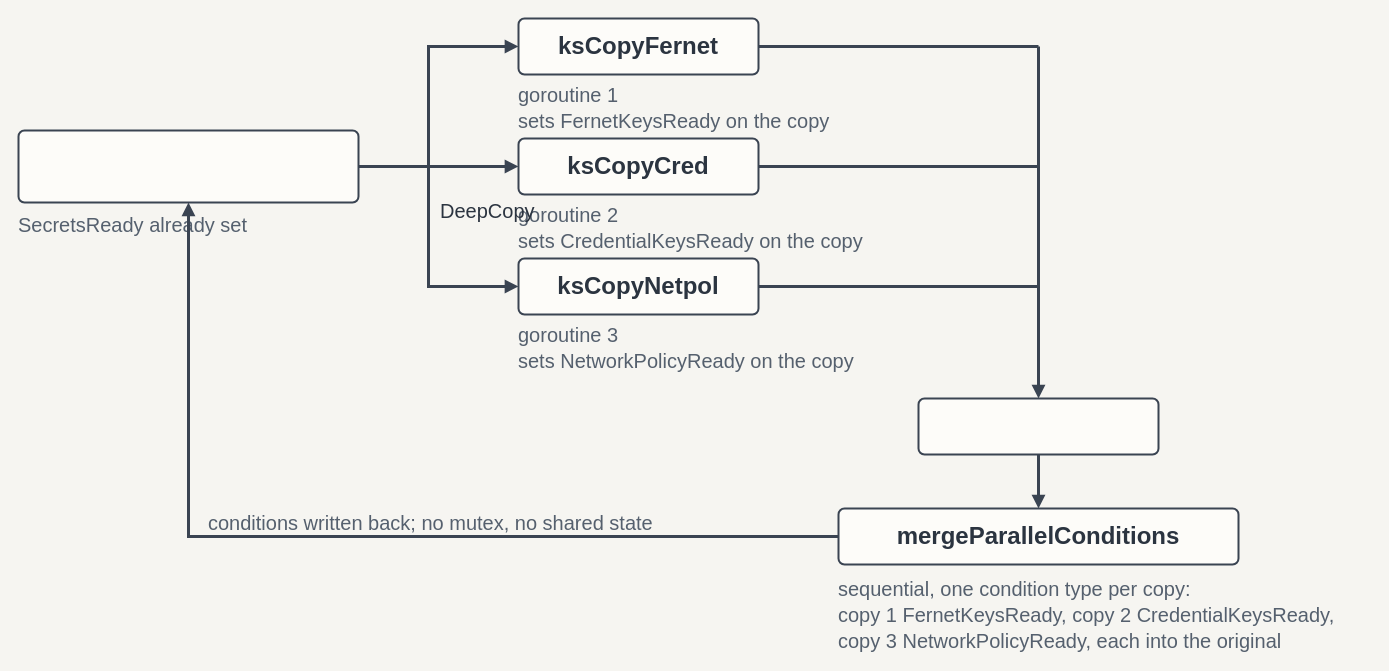
Some shapes in this 1389 by 671 pixel diagram are drawn without their labels. The shapes that lost their labels are listed below. From the top down, each one's centre as x and y in pixels, then its label:
At pixel 188 166: "Keystone CR (original)".
At pixel 1038 426: "errgroup.Wait()".
